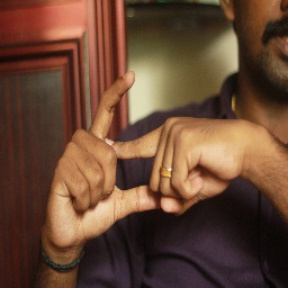E: (86, 62, 181, 220)
